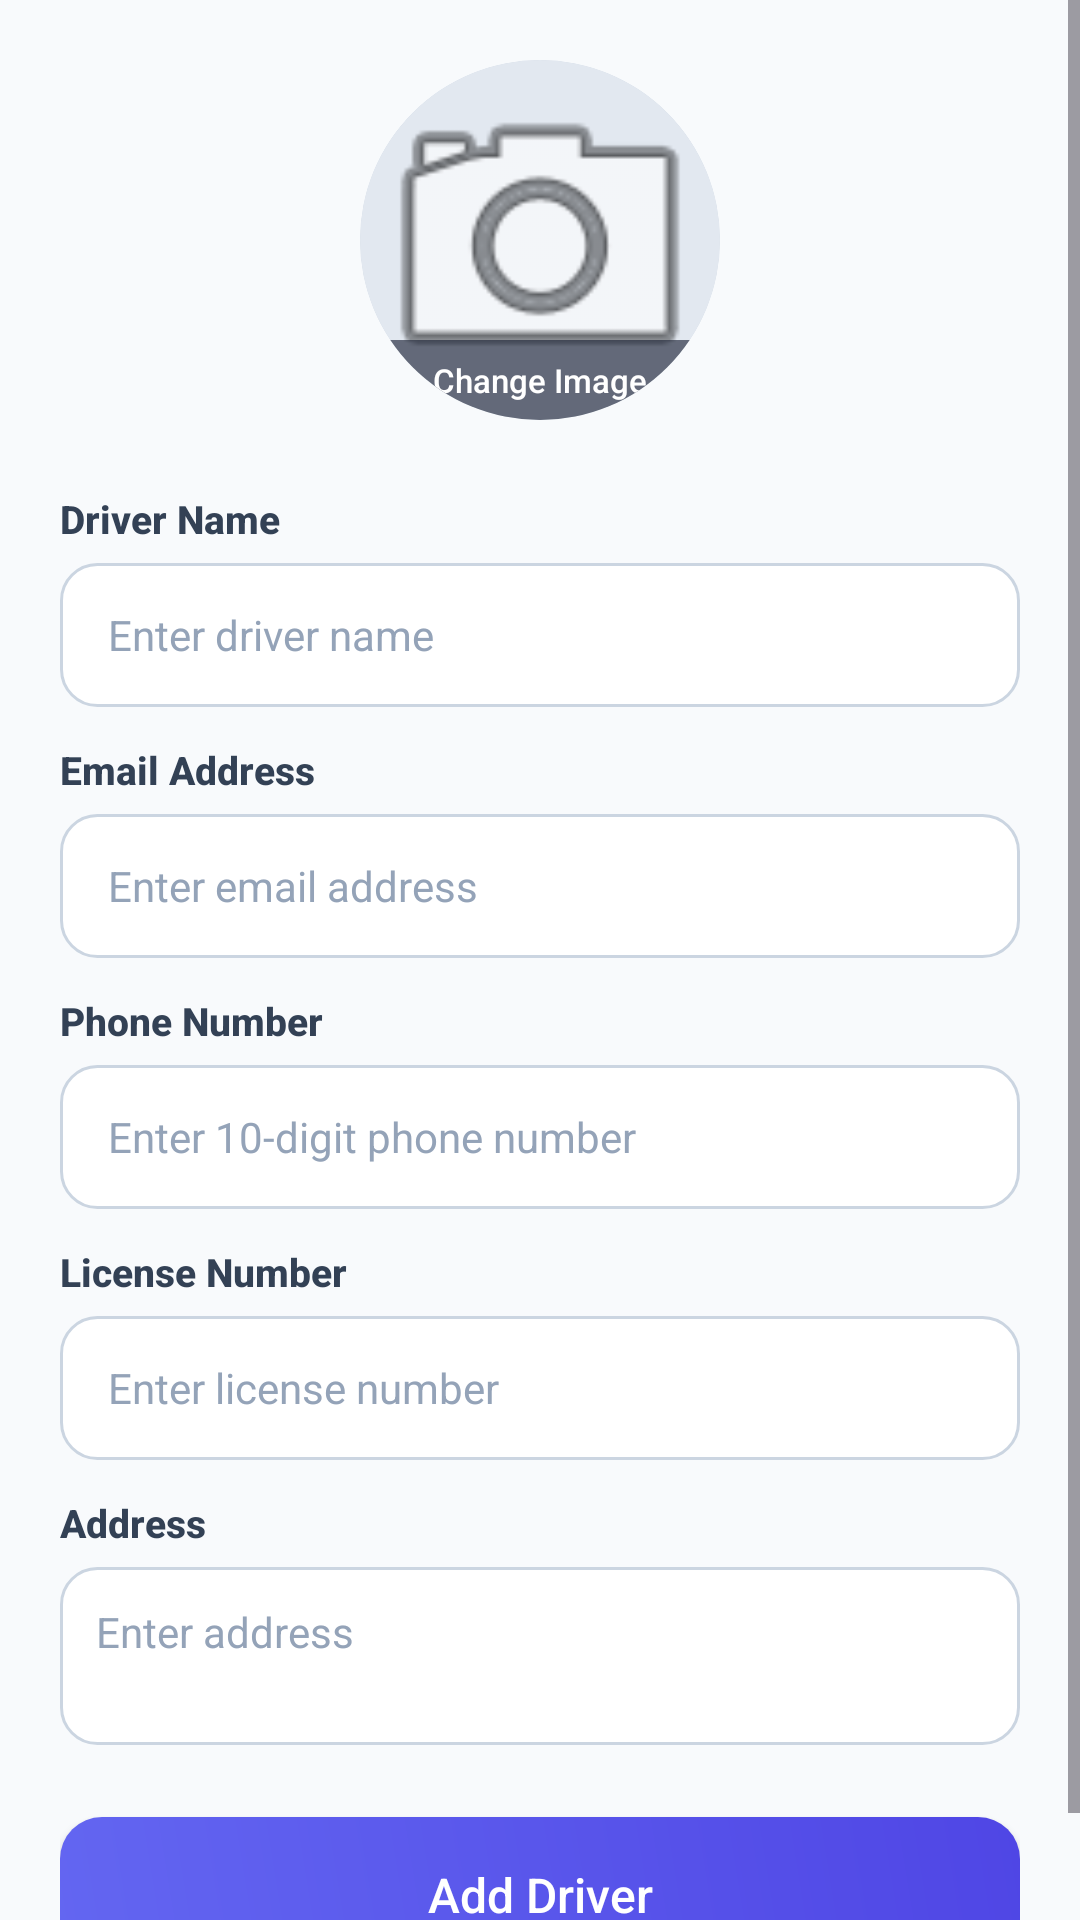

Icons on this 1080 × 1920 Android screen, each with its box as [x1=x1, y1=y1, x2=x2, y2=y2]:
Profile Picture: [x1=376, y1=113, x2=690, y2=420]
